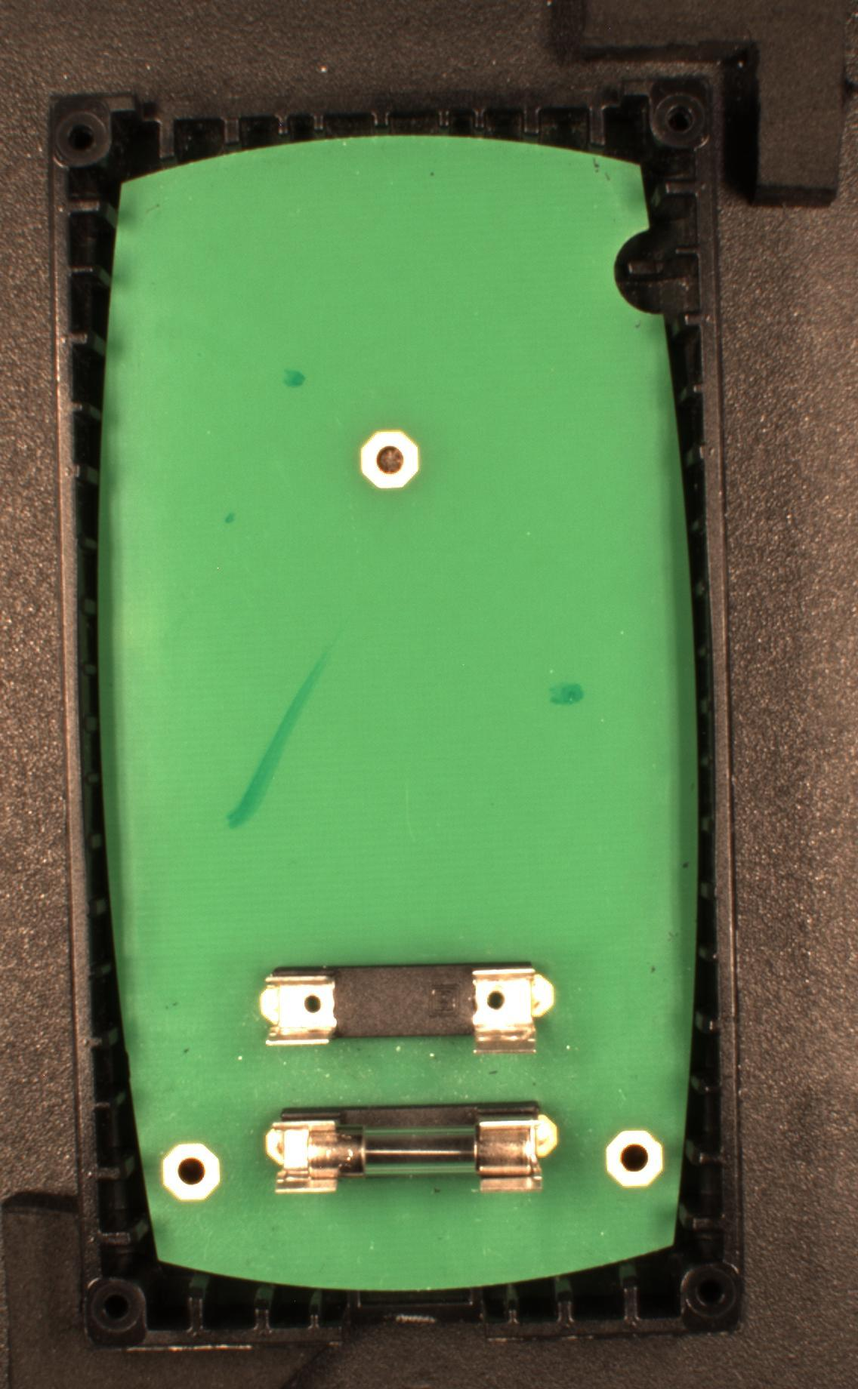Linijsko Ostecene: (226, 645, 335, 829)
Nepostojanje osiguraca: (258, 961, 556, 1057)
Tockasto Ostecenje: (548, 680, 584, 707), (283, 368, 307, 389), (224, 510, 237, 526)
